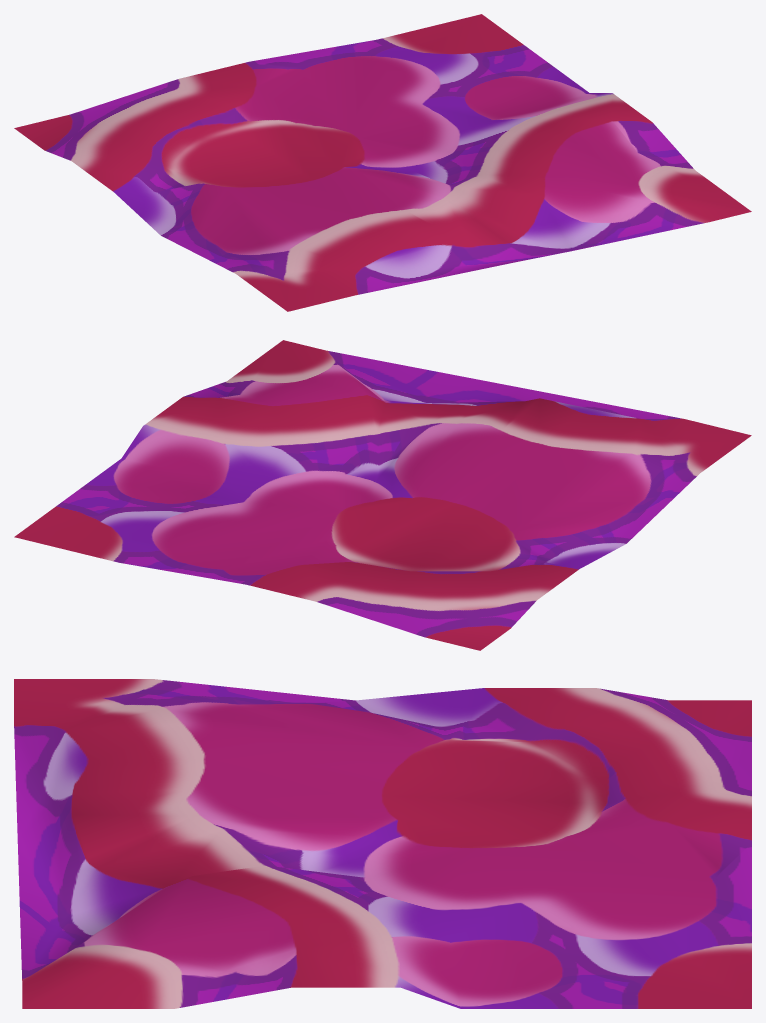
File: wallFlesh.fbx
3 renders of one model, top to bottom at view 1: azimuth 30°, elevation 25°; view 2: azimuth 150°, elevation 25°; view 3: azimuth 270°, elevation 25°, orthographic. The views are drawn at different scales.
Parts seen in each view (by area): view 1: insides; view 2: insides; view 3: insides.
Part boxes in pixels (x1,y1,x2,y2): insides: (14,14,751,311); insides: (14,340,751,650); insides: (14,679,751,1008).
Bounding box in the file's own units: 492 × 37.42 × 497.
